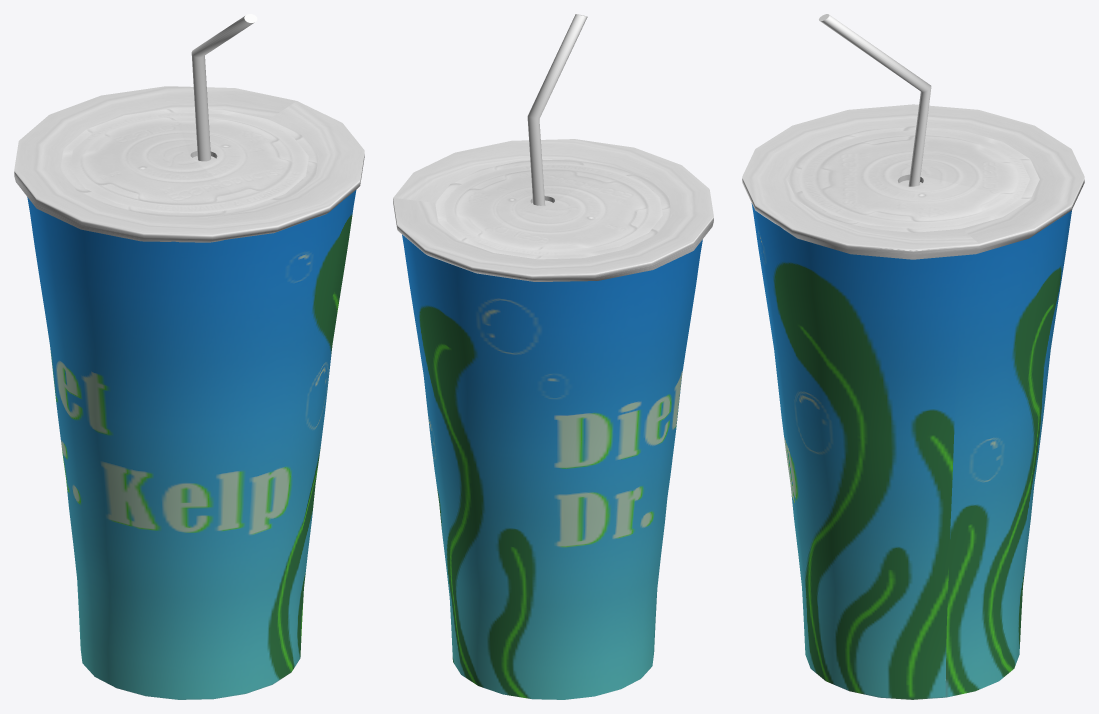
Rendered from dr_kelp (3).fbx.
3 renders of one model, left to right at view 1: azimuth 30°, elevation 25°; view 2: azimuth 150°, elevation 25°; view 3: azimuth 270°, elevation 25°, orthographic. The views are drawn at different scales.
Parts seen in each view (by area): view 1: pCylinder1, pCylinder4, pCylinder5; view 2: pCylinder1, pCylinder4, pCylinder5; view 3: pCylinder1, pCylinder4, pCylinder5.
Part boxes in pixels (x1,y1,x2,y2): pCylinder1: (27,108,356,699); pCylinder4: (14,86,364,242); pCylinder5: (191,14,257,161); pCylinder1: (402,159,702,699); pCylinder4: (393,139,713,281); pCylinder5: (527,14,587,205); pCylinder1: (751,126,1071,699); pCylinder4: (742,104,1084,259); pCylinder5: (819,14,931,186).
Bounding box in the file's own units: 6.36 × 13.25 × 6.36.
Materials: 3 (2 with a texture image).
